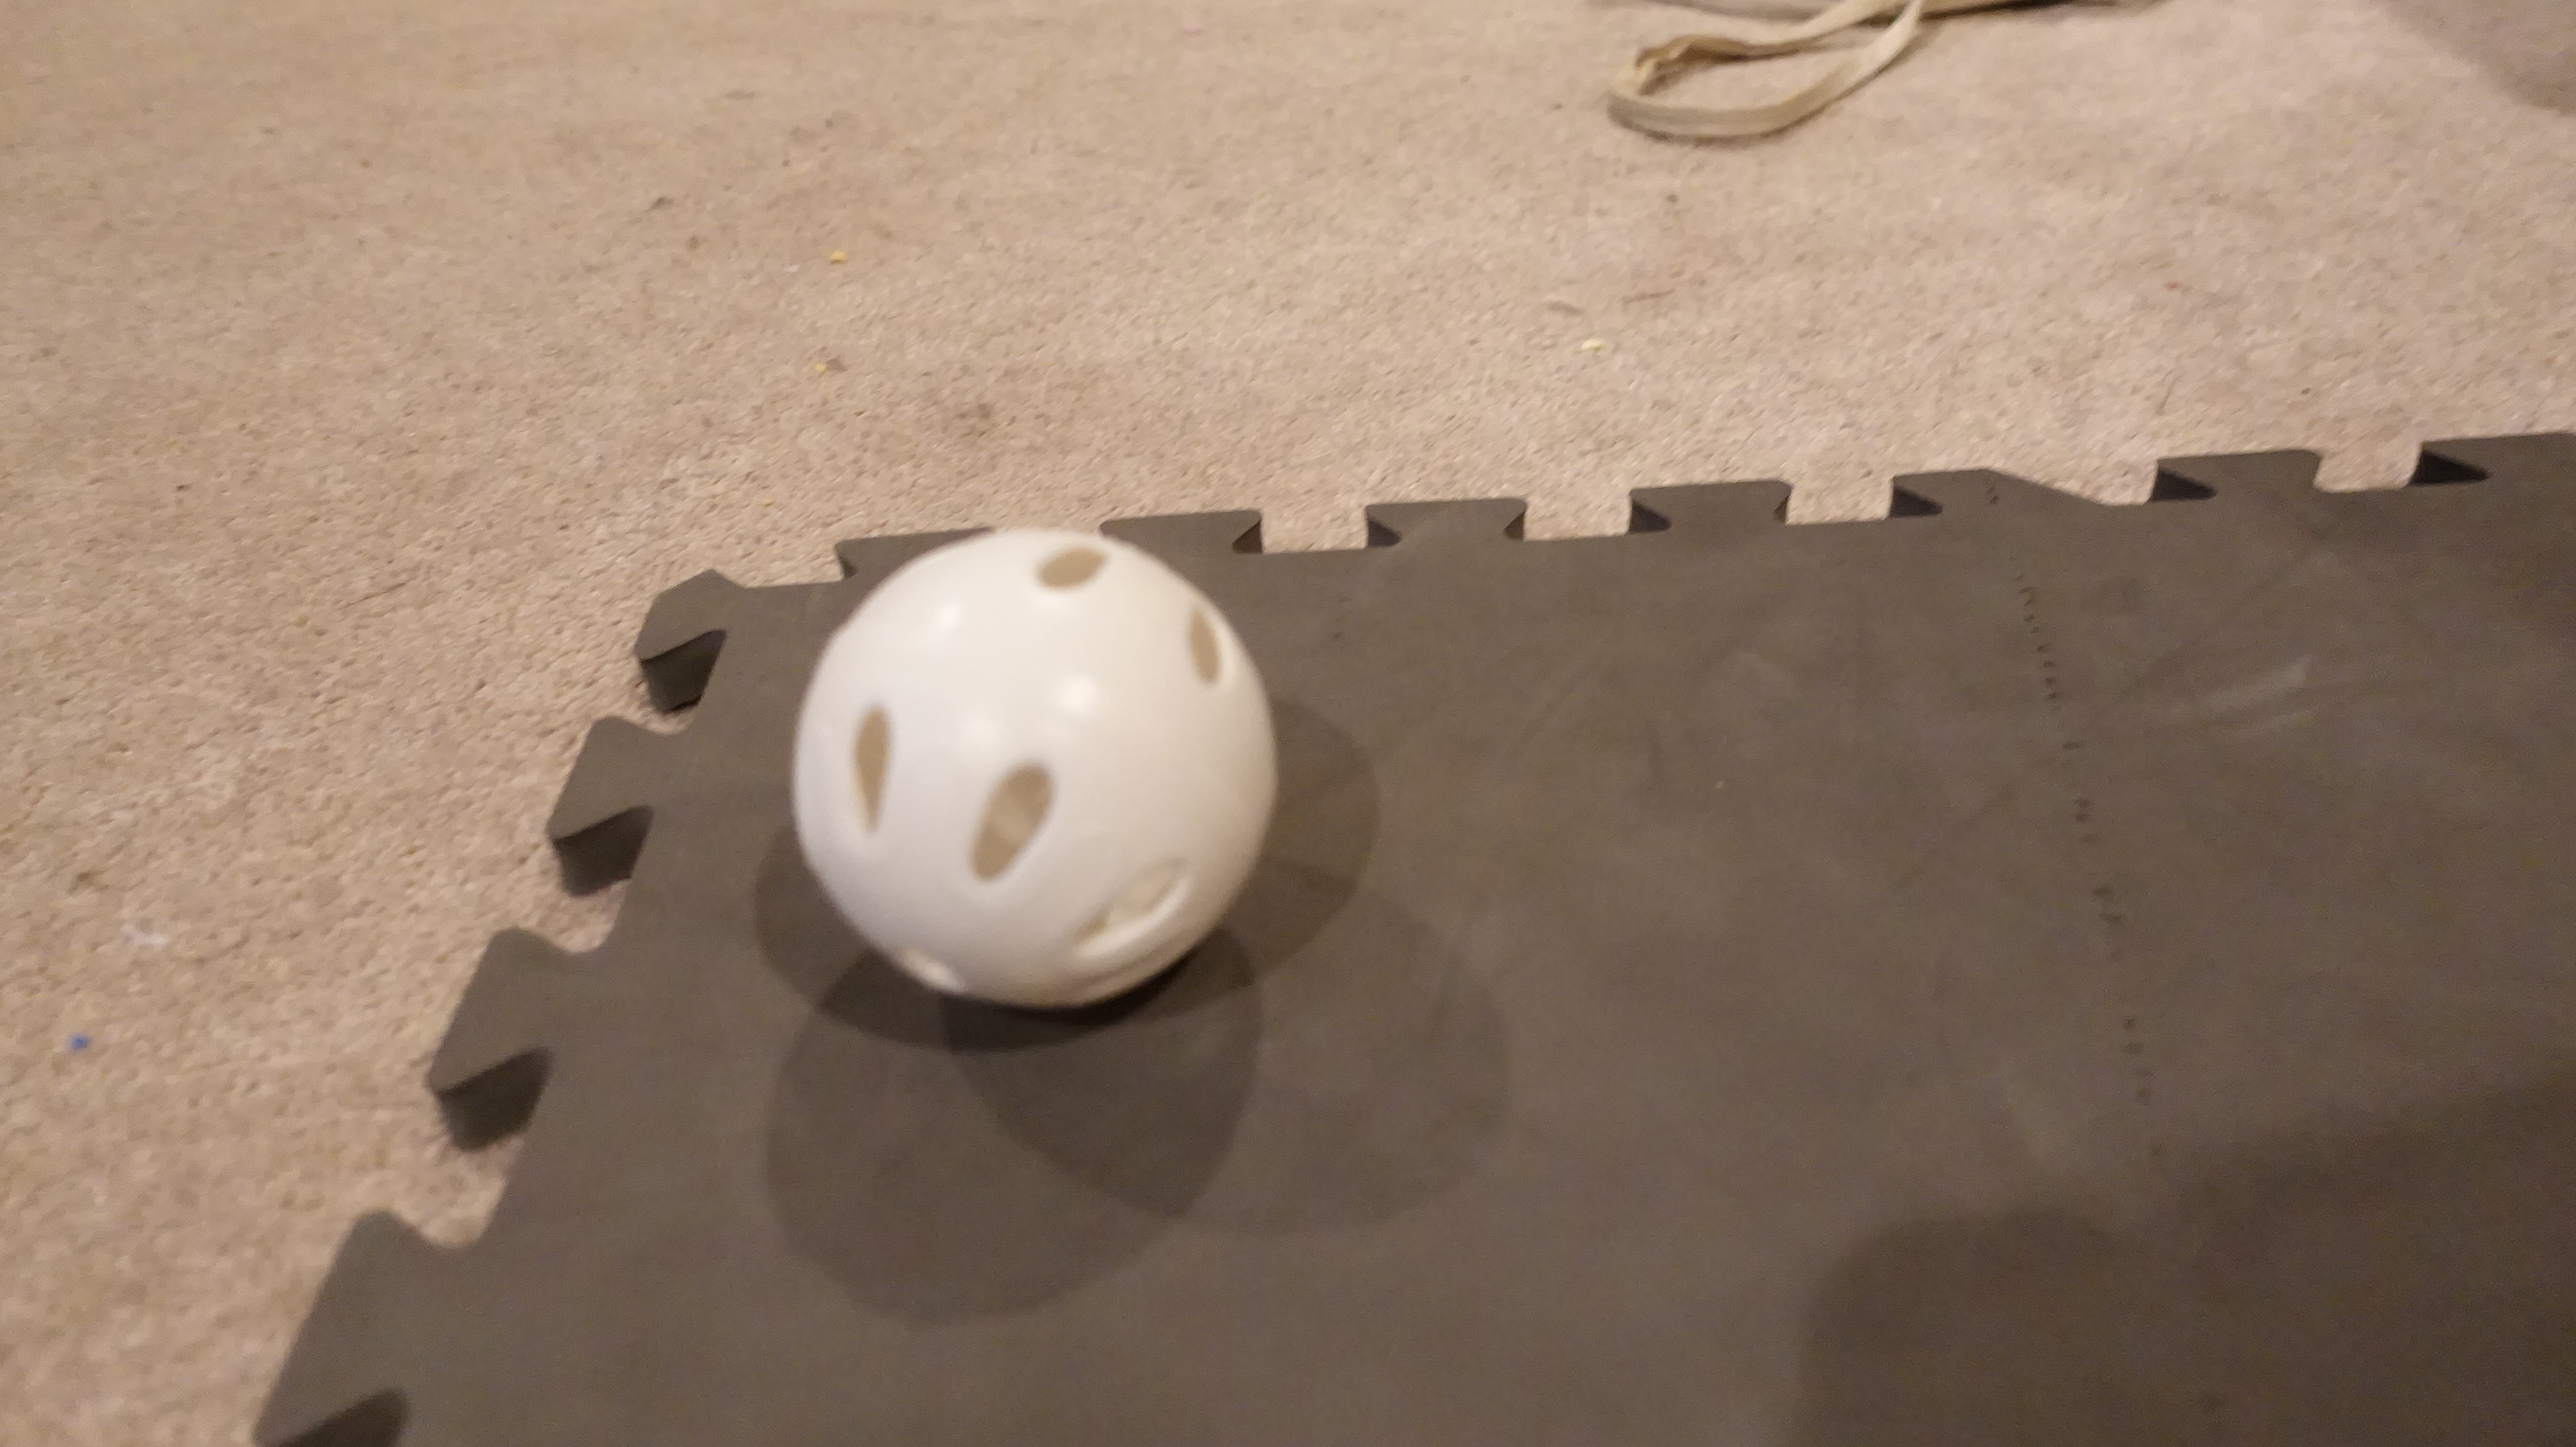silver: (789, 513, 1292, 1026)
